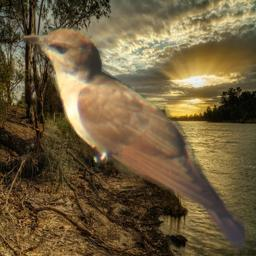Cuckoo: (21, 27, 245, 248)
